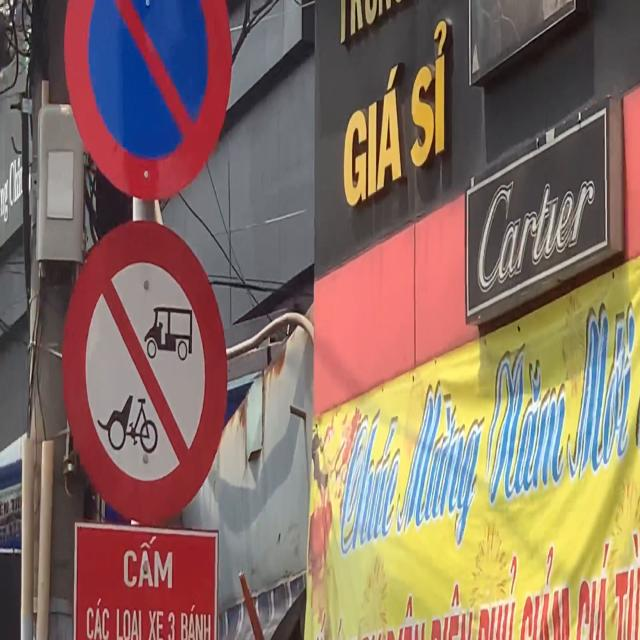Cam con lai: (59, 218, 230, 525)
Cam do: (62, 0, 233, 204)
